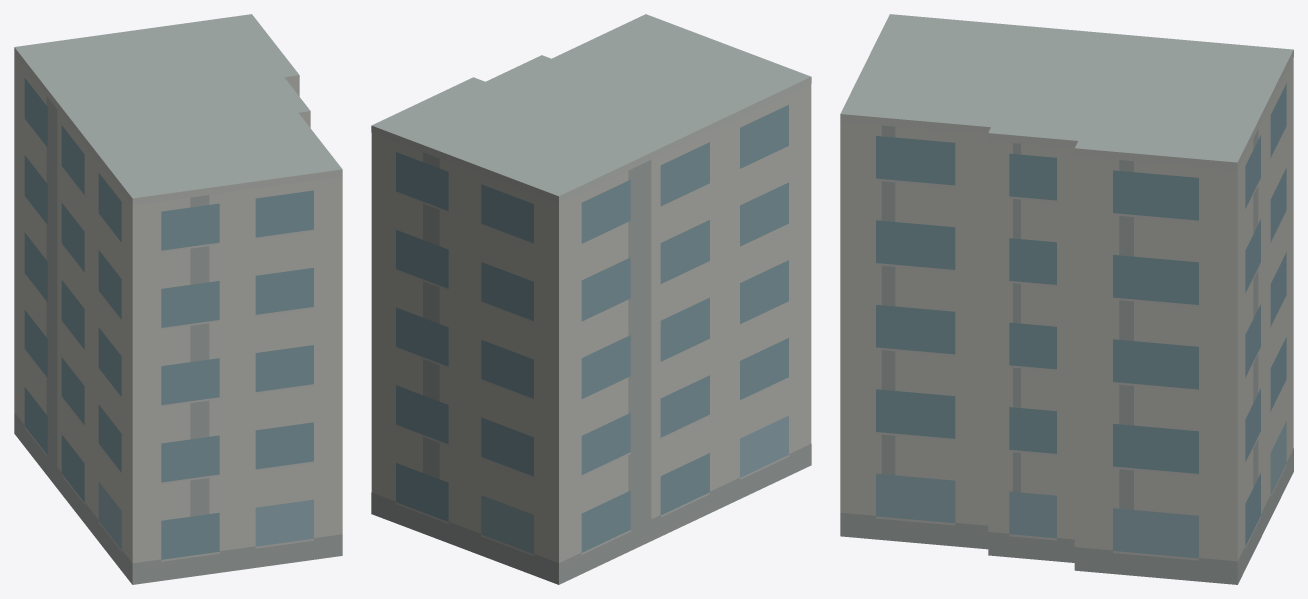
Rendered from survey-upis-32540979.glb.
The picture shows the model from 3 angles, left to right: view 1: azimuth 30°, elevation 25°; view 2: azimuth 150°, elevation 25°; view 3: azimuth 270°, elevation 25°; orthographic projection. The views are drawn at different scales.
Parts seen in each view (by area): view 1: survey-upis-32540979.tmp; view 2: survey-upis-32540979.tmp; view 3: survey-upis-32540979.tmp.
Boxes of the visible parts, x1=… form: survey-upis-32540979.tmp: x1=14, y1=14, x2=342, y2=584; survey-upis-32540979.tmp: x1=371, y1=14, x2=811, y2=584; survey-upis-32540979.tmp: x1=840, y1=14, x2=1293, y2=584.
Size of the model in its own units: 9.97 by 13.2 by 12.85.
